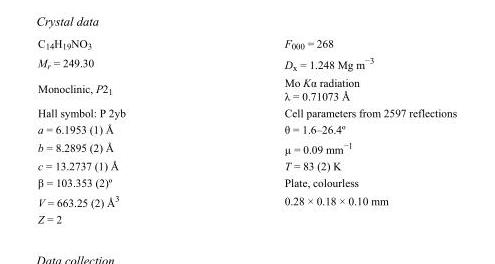table: (37, 36, 456, 224)
table column: (204, 36, 456, 224), (37, 36, 204, 224)
table row: (37, 73, 456, 104), (37, 52, 456, 73), (37, 137, 456, 157), (37, 190, 456, 210), (37, 120, 456, 137), (37, 173, 456, 190), (37, 36, 456, 52), (37, 104, 456, 120), (37, 157, 456, 173), (37, 210, 456, 224)
